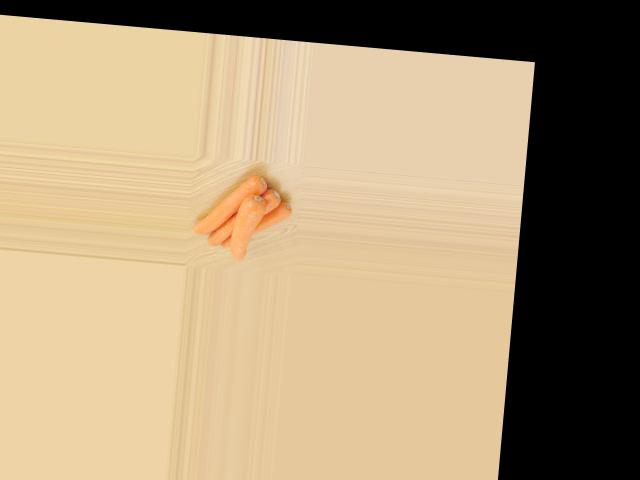carrot: (238, 194, 299, 249)
